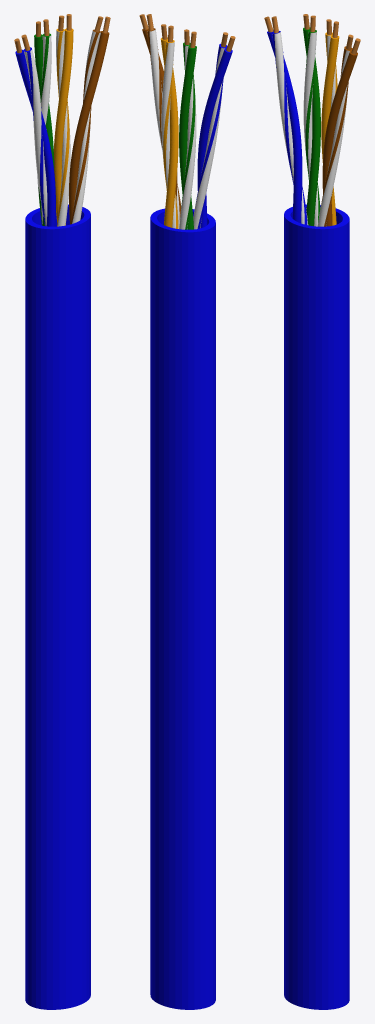
Rendered from Bundled Ethernet Cable.fbx.
3 views of the same model, side by side, from view 1: azimuth 30°, elevation 25°; view 2: azimuth 150°, elevation 25°; view 3: azimuth 330°, elevation 25° (orthographic).
Visible parts, largest first — view 1: Cylinder, Brown, Orange, White/Blue, White/Green; view 2: Cylinder, Orange, White/Green, White/Blue, Brown; view 3: Cylinder, White/Blue, White/Green, Brown, Orange.
Part boxes in pixels (box(x1,y1,x2,y2)): Cylinder: box(25, 204, 90, 1009); Brown: box(69, 16, 110, 224); Orange: box(53, 14, 73, 226); White/Blue: box(14, 34, 55, 226); White/Green: box(34, 19, 54, 225); Cylinder: box(150, 208, 215, 1009); Orange: box(160, 24, 178, 228); White/Green: box(179, 29, 196, 229); White/Blue: box(193, 32, 235, 229); Brown: box(139, 14, 181, 227); Cylinder: box(284, 204, 349, 1009); White/Blue: box(264, 16, 308, 225); White/Green: box(303, 14, 320, 226); Brown: box(317, 34, 360, 226); Orange: box(321, 19, 339, 225).
Bounding box in the file's own units: 128 × 1250 × 64.
